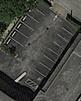parkingspot: (27, 20, 81, 88), (3, 11, 41, 55)
